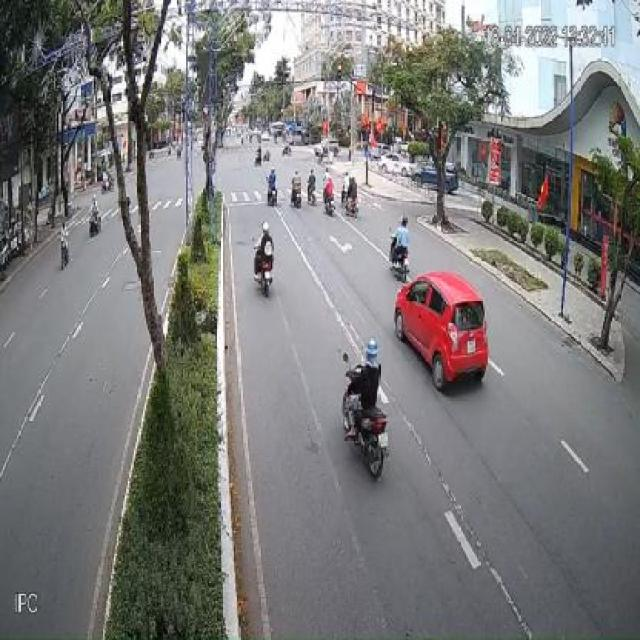car: (390, 270, 491, 386)
motorbike: (342, 336, 392, 482), (253, 223, 276, 299), (388, 215, 412, 282), (345, 176, 361, 221), (322, 174, 334, 217), (90, 197, 102, 238), (59, 234, 72, 270), (290, 172, 302, 209), (307, 168, 318, 208), (268, 170, 279, 206)
